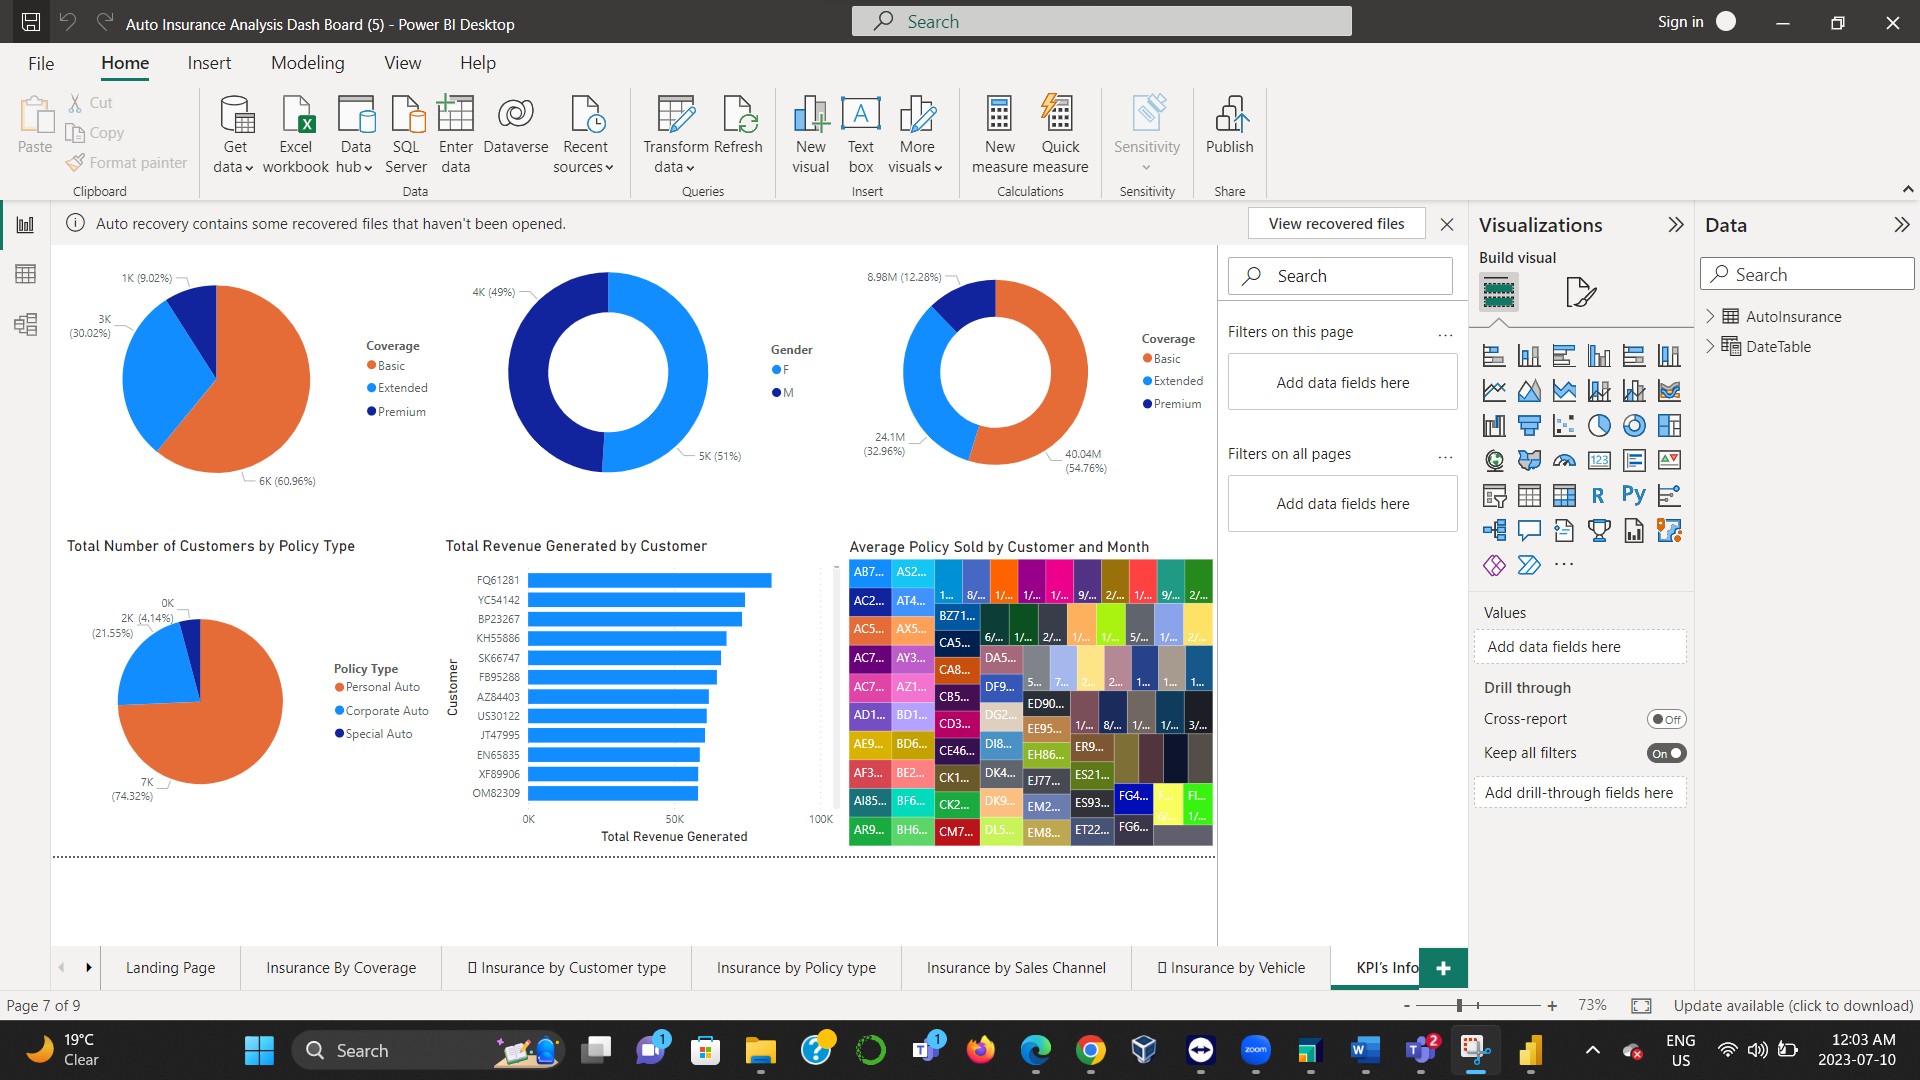

The dashboard page shown, as its layout file describes it:
{"tool":"powerbi","page":{"name":"KPI’s Information 1","canvas":[1280,720],"ordinal":6},"visuals":[{"type":"pieChart","fields":{"Y":["AutoInsurance.Total Number of Customers"],"Category":["AutoInsurance.Coverage"]},"box":[11.8,15.1,416.6,344.4],"z":0},{"type":"donutChart","fields":{"Y":["AutoInsurance.Total Number of Customers"],"Category":["AutoInsurance.Gender"]},"box":[428.3,0,433.4,359.5],"z":1000},{"type":"donutChart","fields":{"Y":["AutoInsurance.Total Amount Covered"],"Category":["AutoInsurance.Coverage"]},"box":[871,0,409,359],"z":2000},{"type":"pieChart","fields":{"Y":["AutoInsurance.Total Number of Customers"],"Category":["AutoInsurance.Policy Type"]},"box":[12,369,417,344],"z":3000},{"type":"barChart","fields":{"Y":["AutoInsurance.Total Revenue Generated"],"Category":["AutoInsurance.Customer"]},"box":[428.3,369.6,443.5,342.7],"z":4000},{"type":"treemap","fields":{"Values":["AutoInsurance.Average Policy Sold"],"Group":["AutoInsurance.Customer"],"Details":["AutoInsurance.Month"]},"box":[871,370,409,343],"z":5000}]}

Visuals, with their boxes on the page's 1280x720 design canvas (x1, y1, x2, y2). These are canvas units, not pixel positions in the 1920x1080 screenshot, which may show the page scaled, cropped or inside an application window:
pieChart - AutoInsurance.Total Number of Customers x AutoInsurance.Coverage: bbox=(12, 15, 428, 360)
donutChart - AutoInsurance.Total Number of Customers x AutoInsurance.Gender: bbox=(428, 0, 862, 360)
donutChart - AutoInsurance.Total Amount Covered x AutoInsurance.Coverage: bbox=(871, 0, 1280, 359)
pieChart - AutoInsurance.Total Number of Customers x AutoInsurance.Policy Type: bbox=(12, 369, 429, 713)
barChart - AutoInsurance.Total Revenue Generated x AutoInsurance.Customer: bbox=(428, 370, 872, 712)
treemap - AutoInsurance.Average Policy Sold x AutoInsurance.Customer: bbox=(871, 370, 1280, 713)
